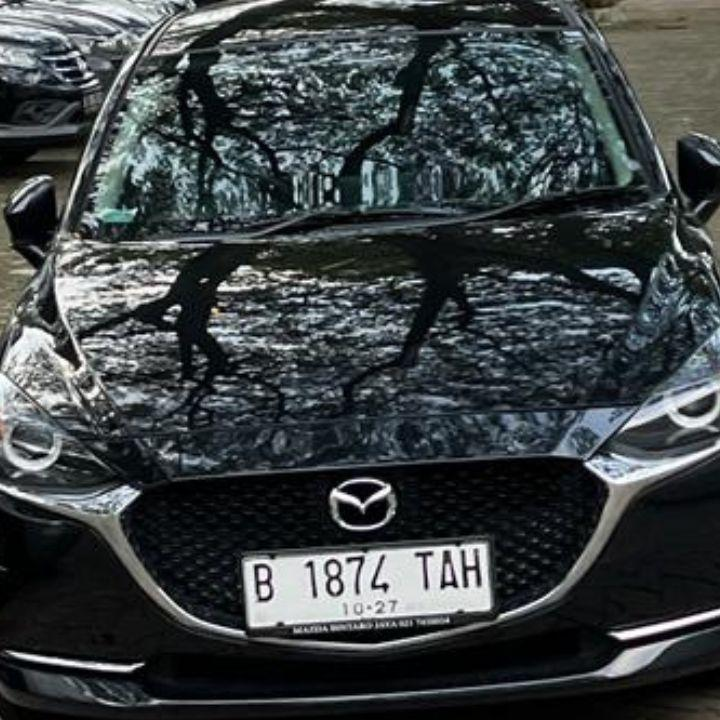plat: (242, 539, 494, 634)
